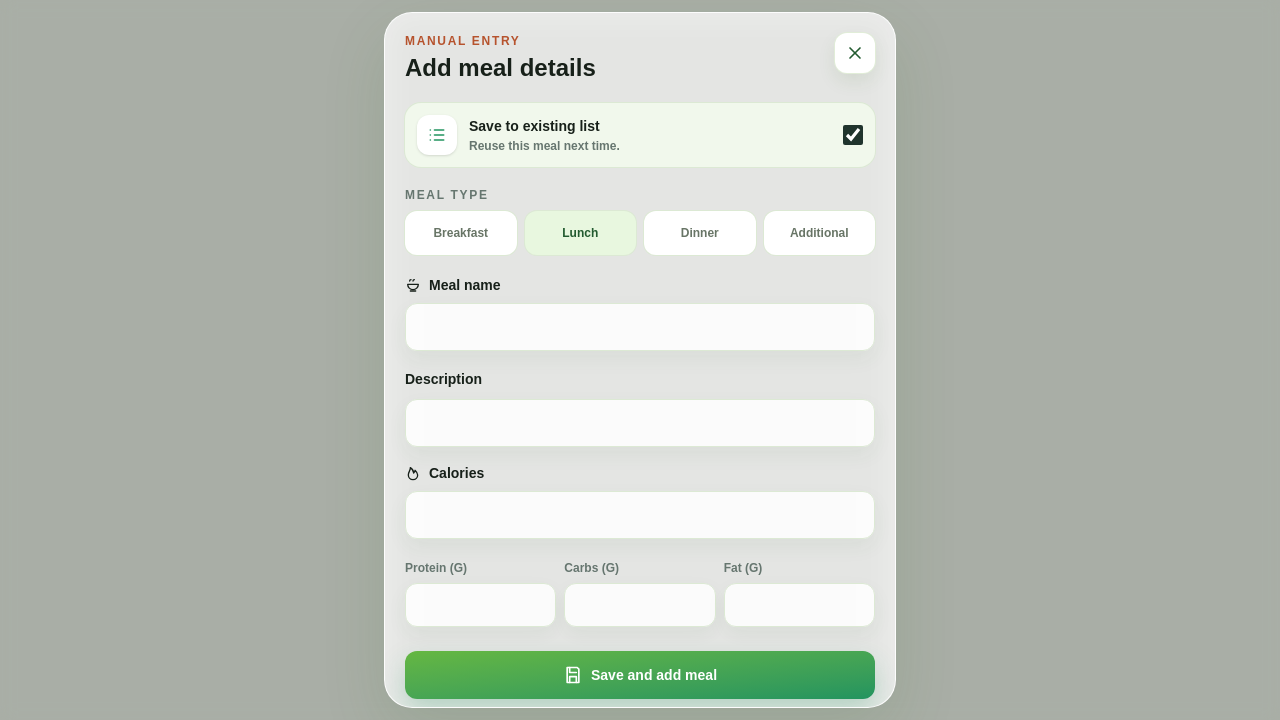
Scenario: AddManualMeal › logs the meal before saving it for reuse
Type "Chicken salad" into the field labelled "Meal name" at (640, 327), box [405, 303, 875, 351]
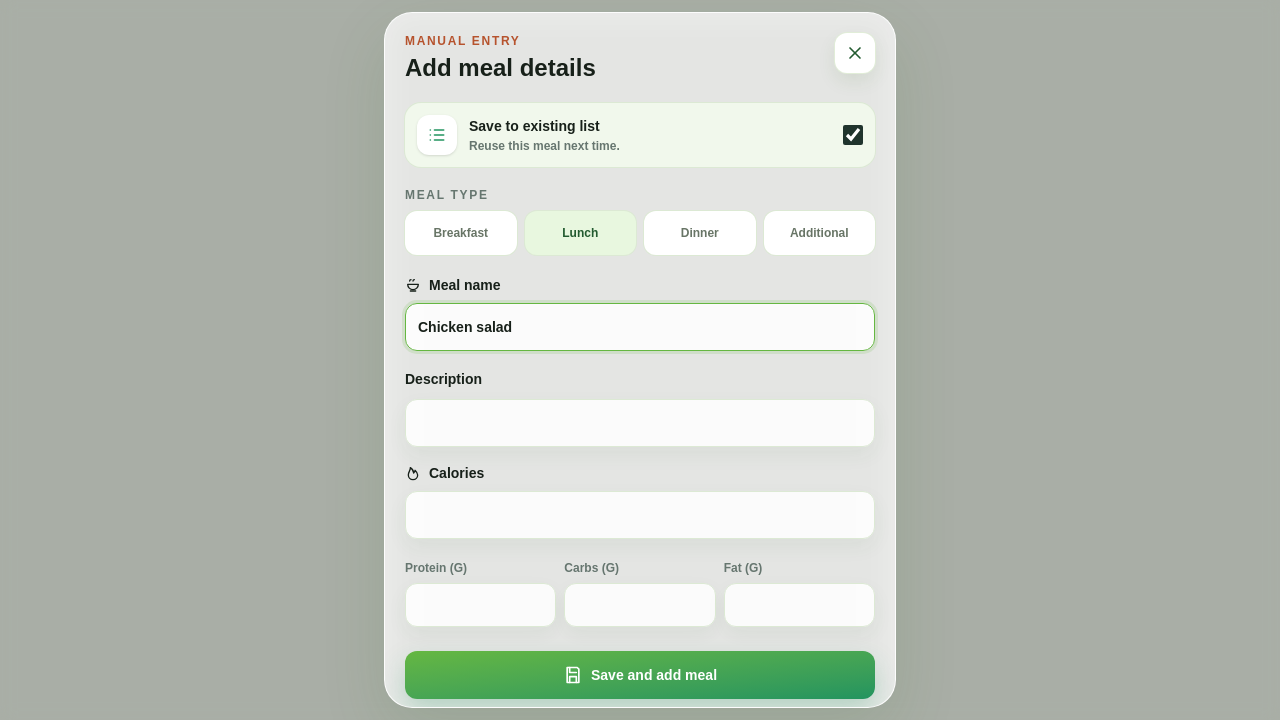
Type "380" into the number field labelled "Calories" at (640, 515), box [405, 491, 875, 539]
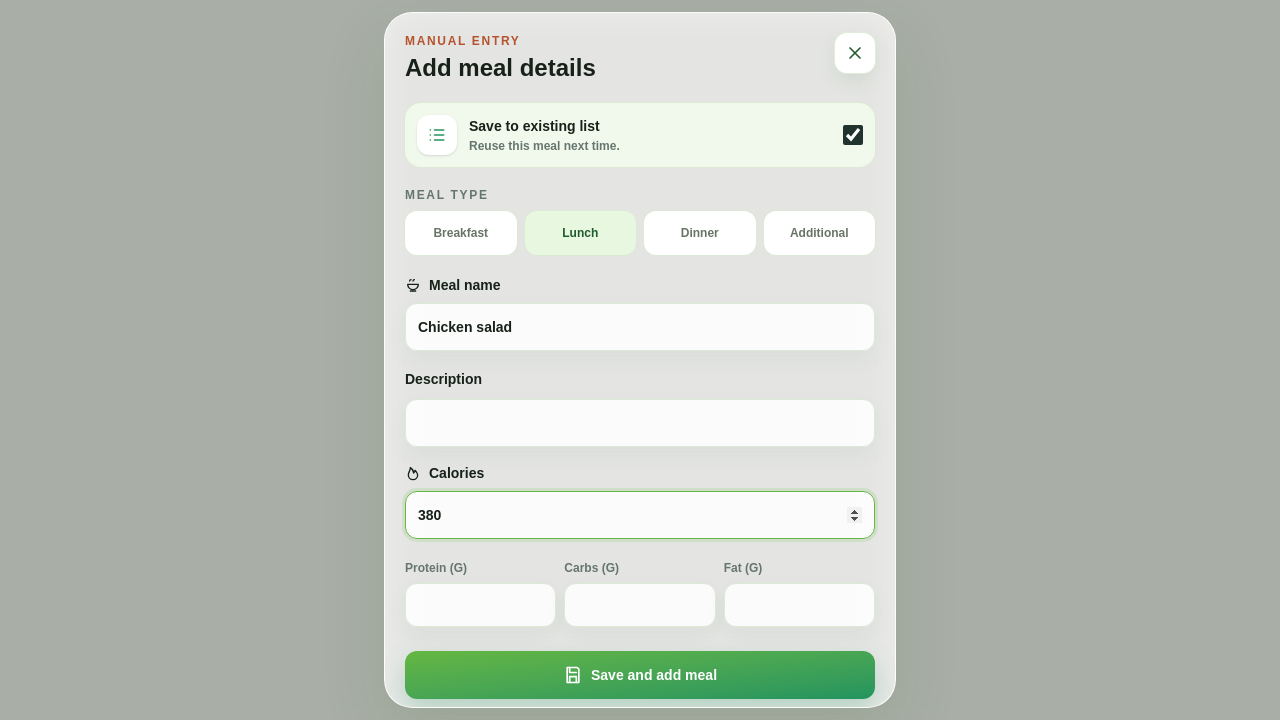
Click the button "Save and add meal" at (640, 675), box [405, 651, 875, 699]
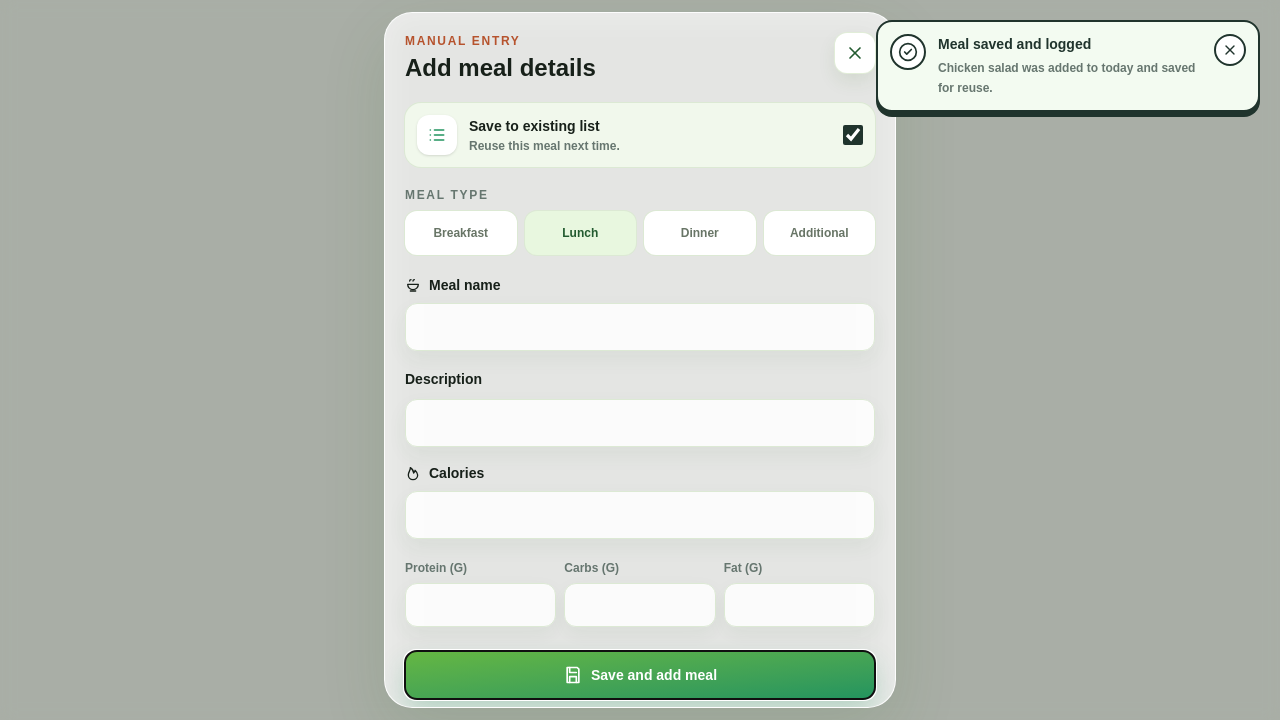
Check: the text "Meal saved and logged" is shown, box [938, 36, 1091, 52]
